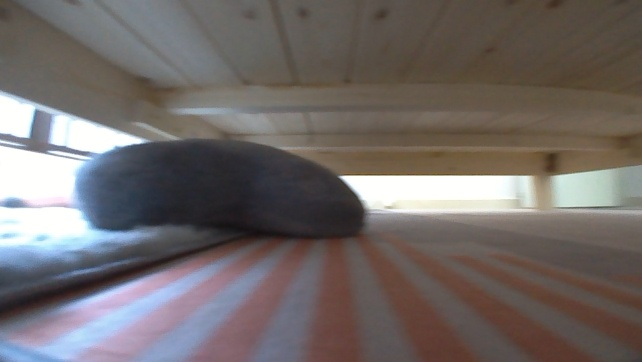blanket: (6, 207, 641, 361)
